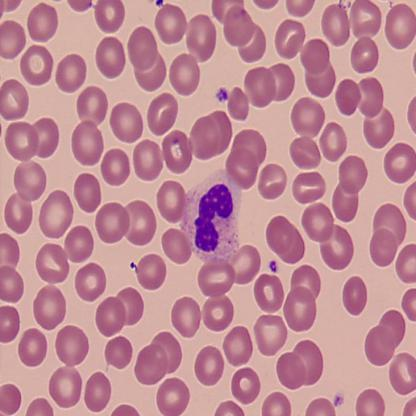Band Neutrophil: (177, 164, 243, 267)
